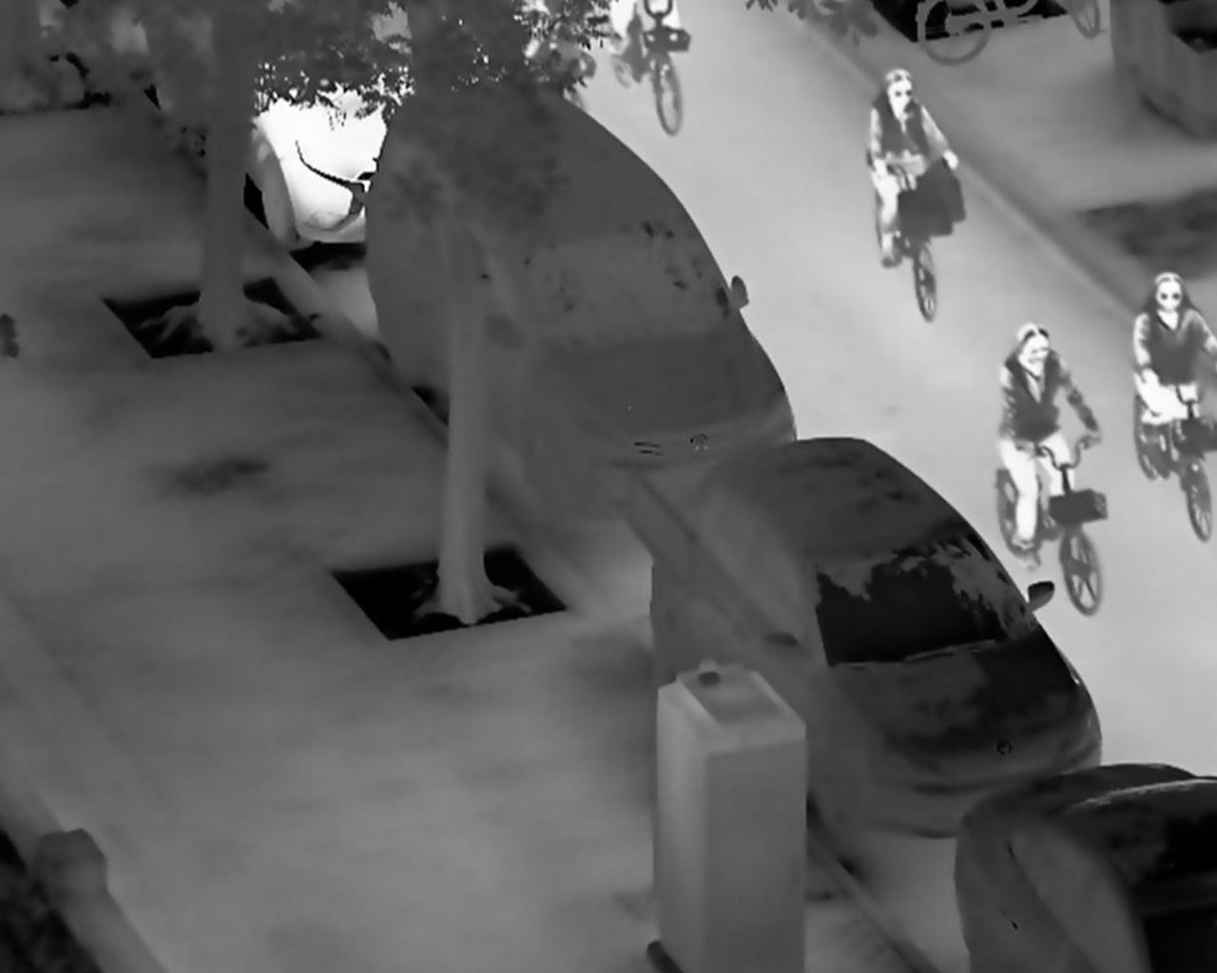person: (997, 321, 1108, 578), (865, 66, 965, 272), (1130, 266, 1217, 467)
